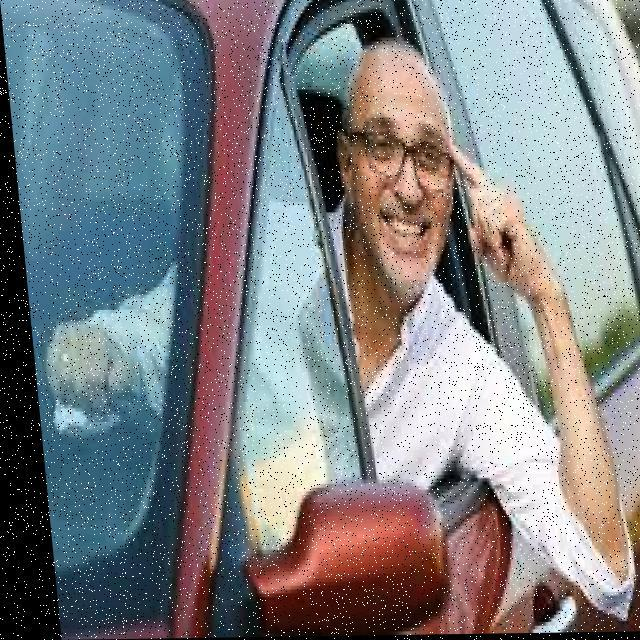noSeatbelt: (244, 210, 494, 496)
